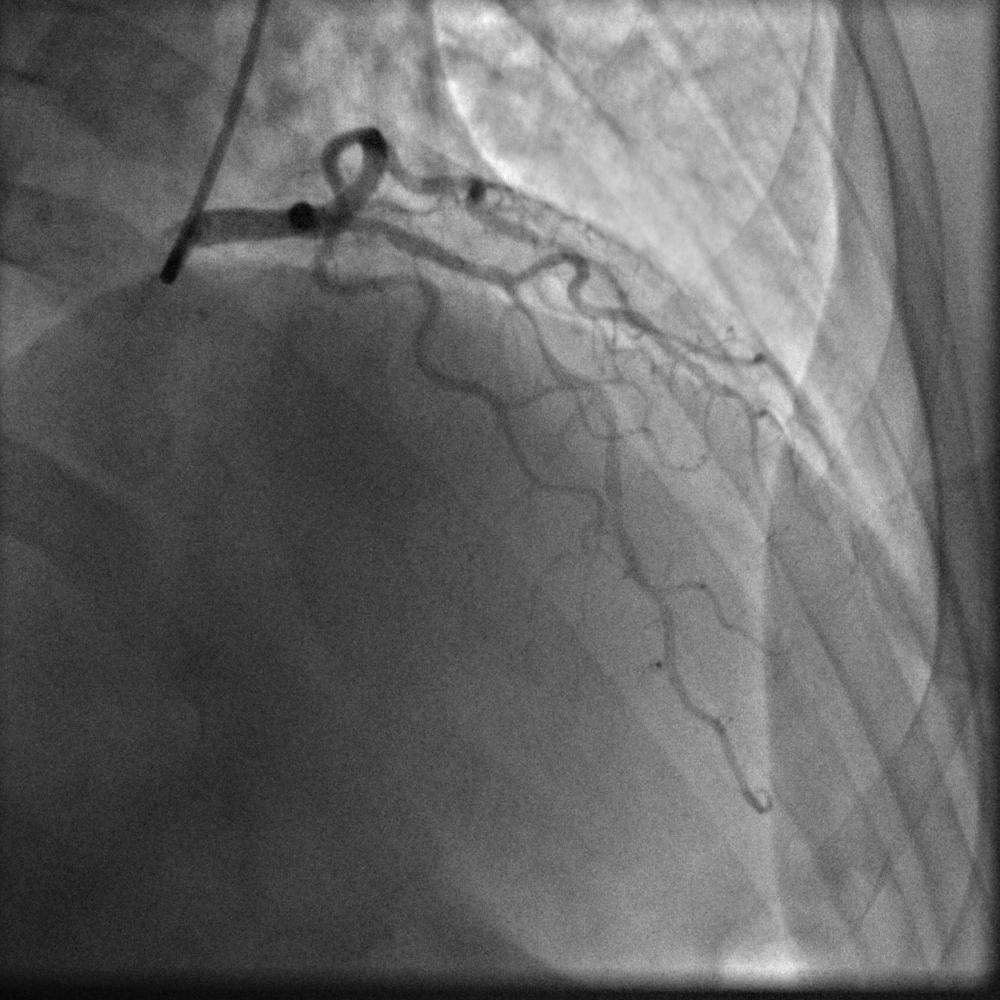Stenosis: (513, 297, 555, 359)
